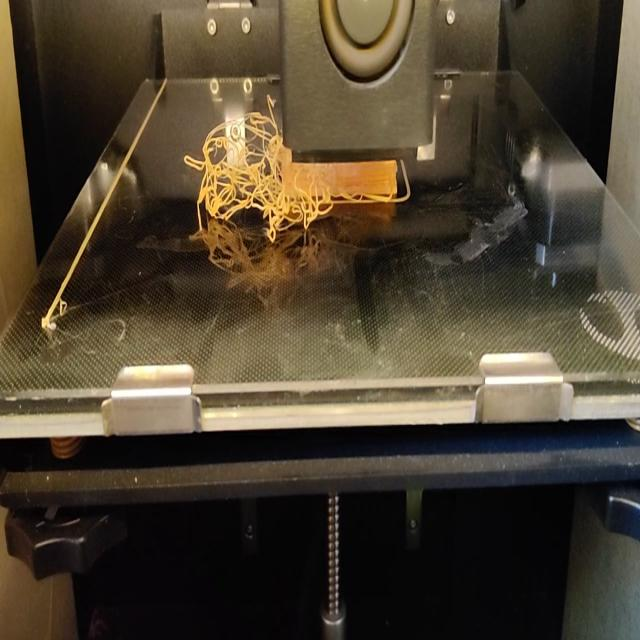spaghetti: (182, 91, 285, 252), (286, 156, 328, 233)
